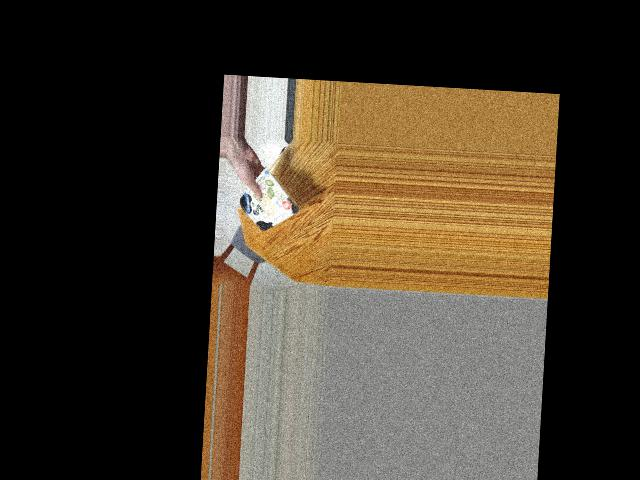cheese: (246, 172, 291, 231)
